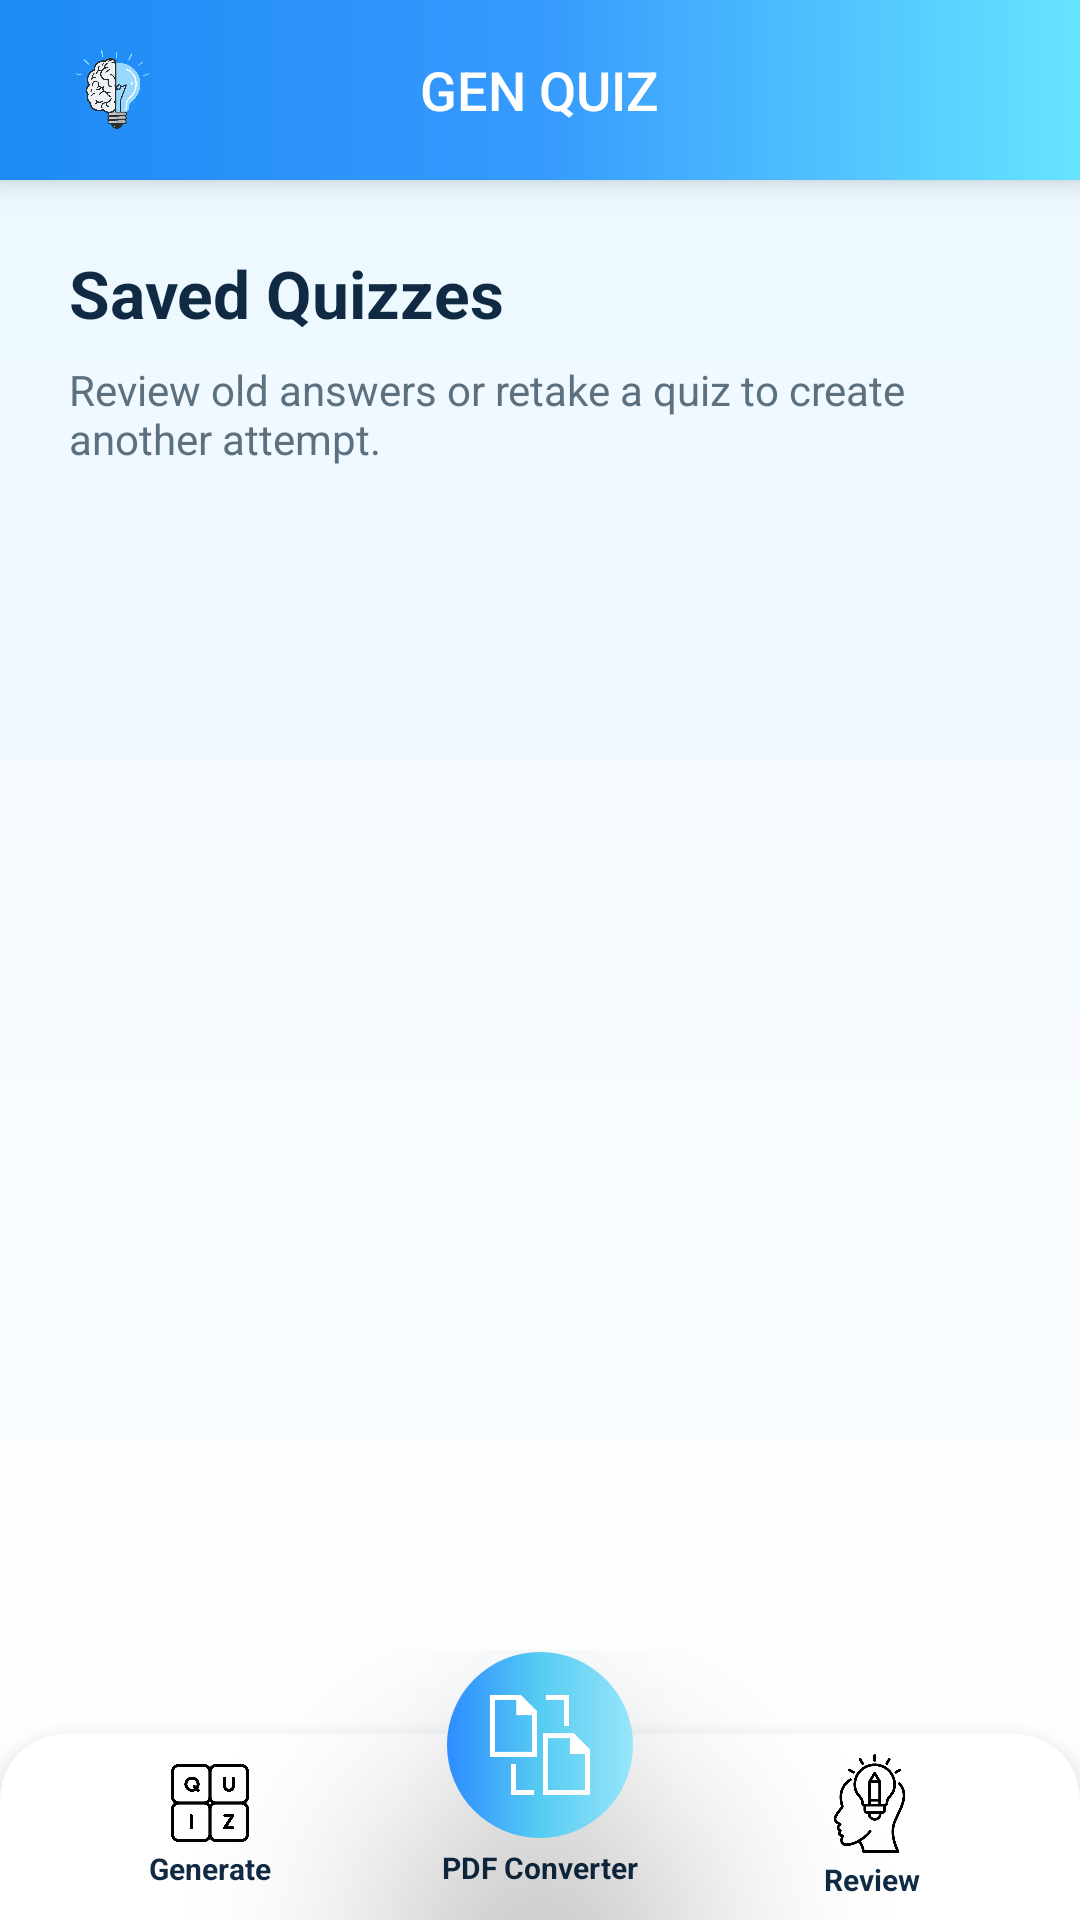

Where to tap for icons on this 1080w x 1920h app screen, as point (x, y):
pdf convert nav: point (540, 1745)
quiz: point (210, 1803)
